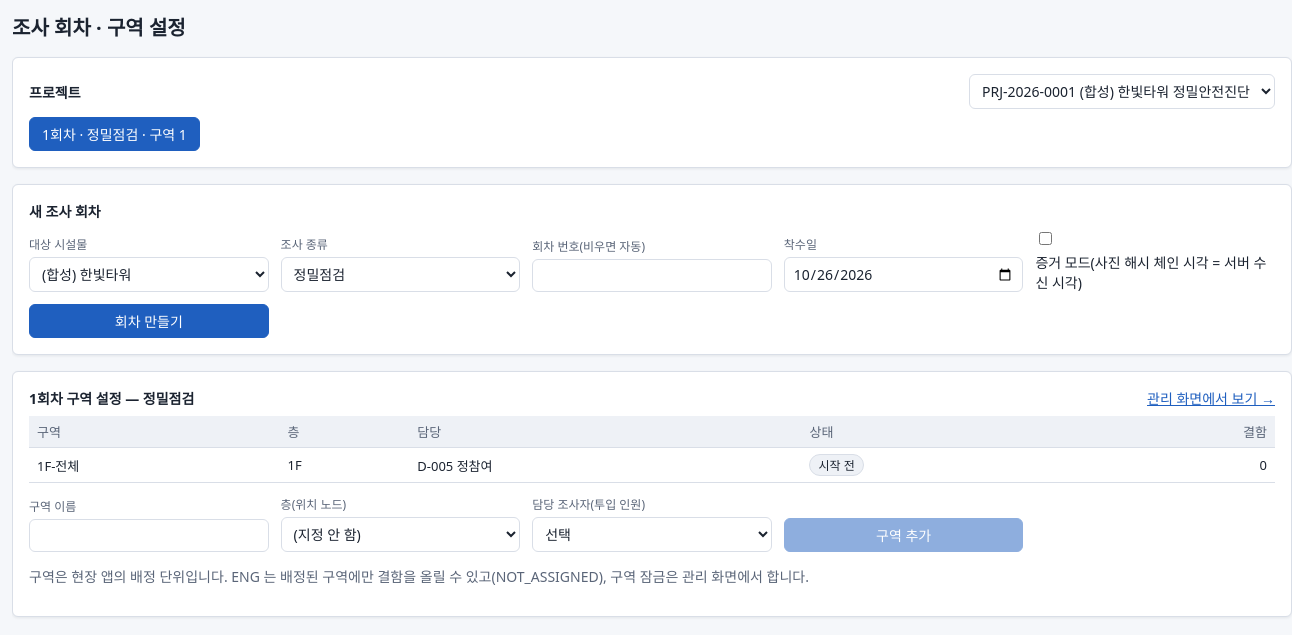
Test: 조사 회차 · 구역 설정 › 회차 만들기: 프로젝트 · 시설물 · 종류 · 증거 모드 → POST /fld/rounds, 재시도는 같은 멱등 키
Select "(합성) 별관" in the dropdown labelled "대상 시설물" at (149,274), box [29, 257, 269, 292]
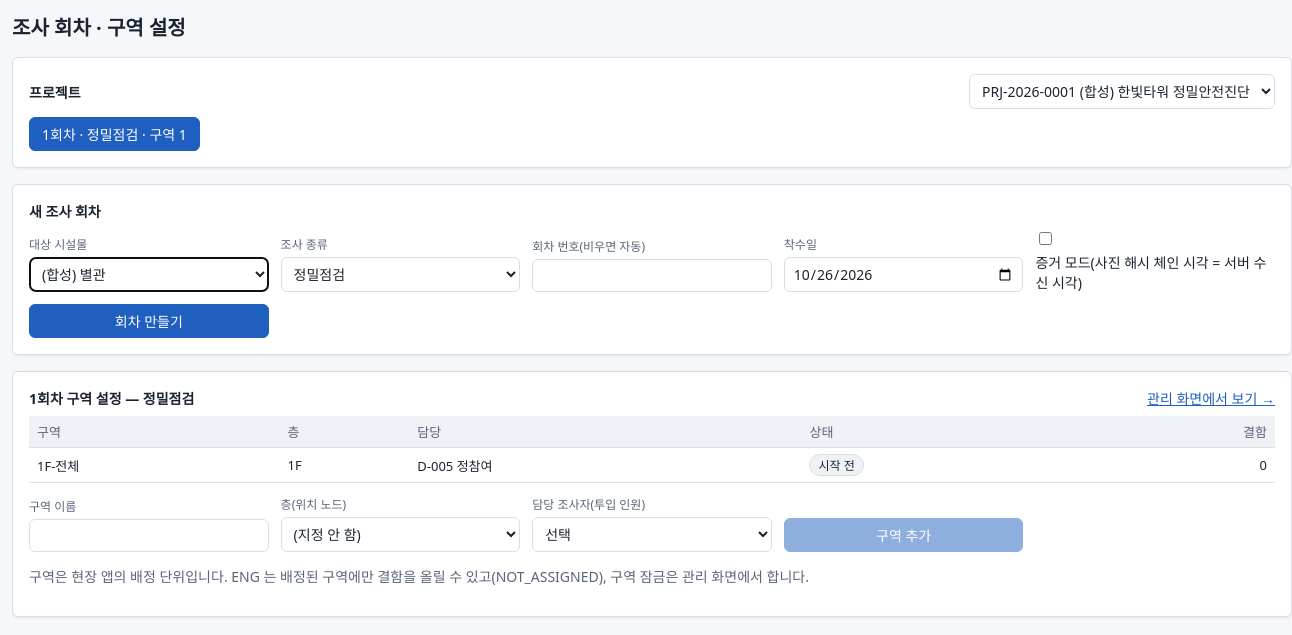
Select "정기점검" in the dropdown labelled "조사 종류" at (400,274), box [281, 257, 520, 292]
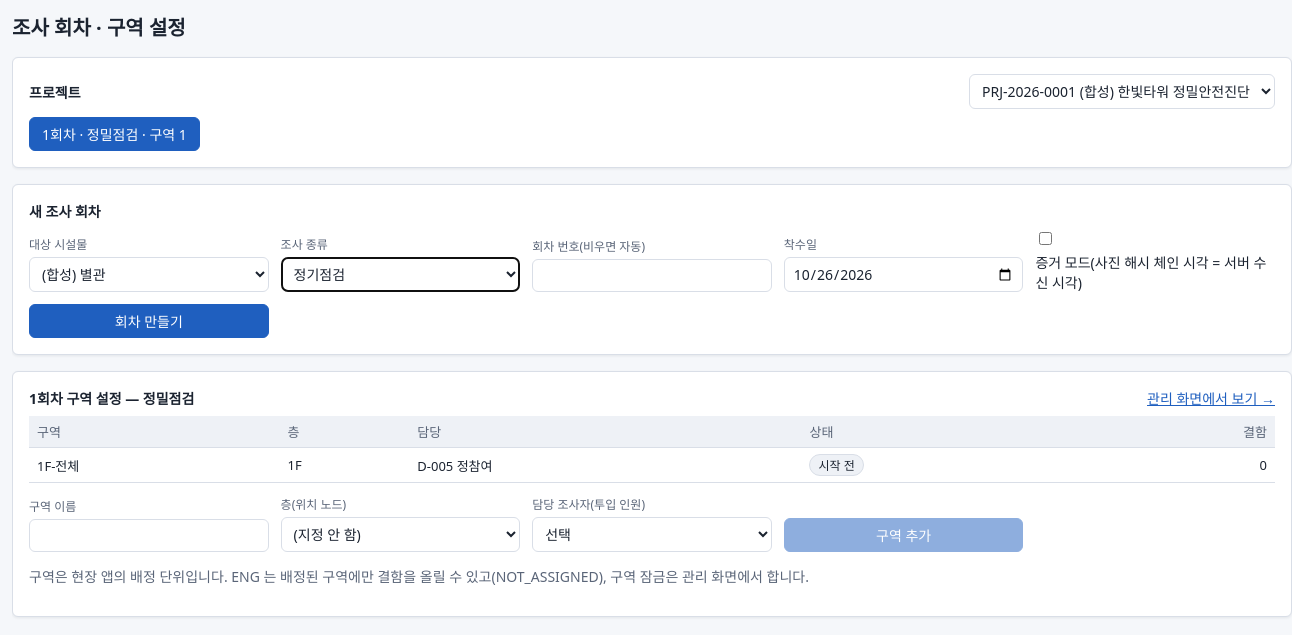
Click the checkbox labelled "증거 모드" at (1046,238), box [1039, 232, 1052, 245]
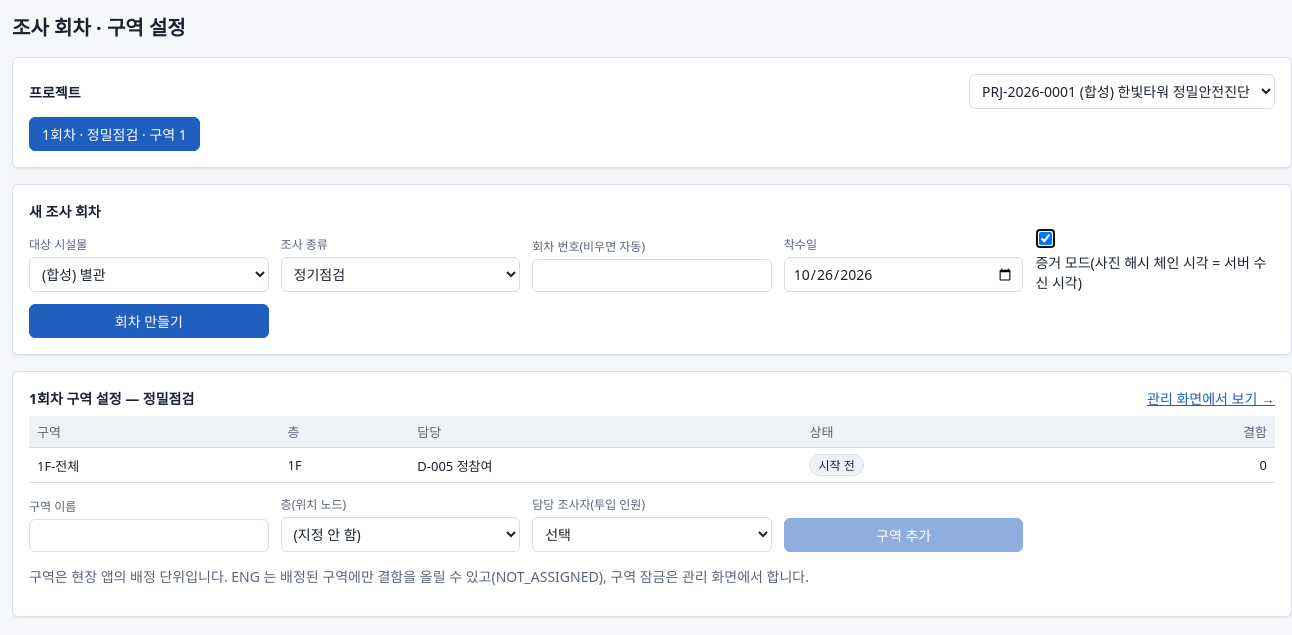
Click the button with test id "round-create" at (149,321), box [29, 304, 269, 338]
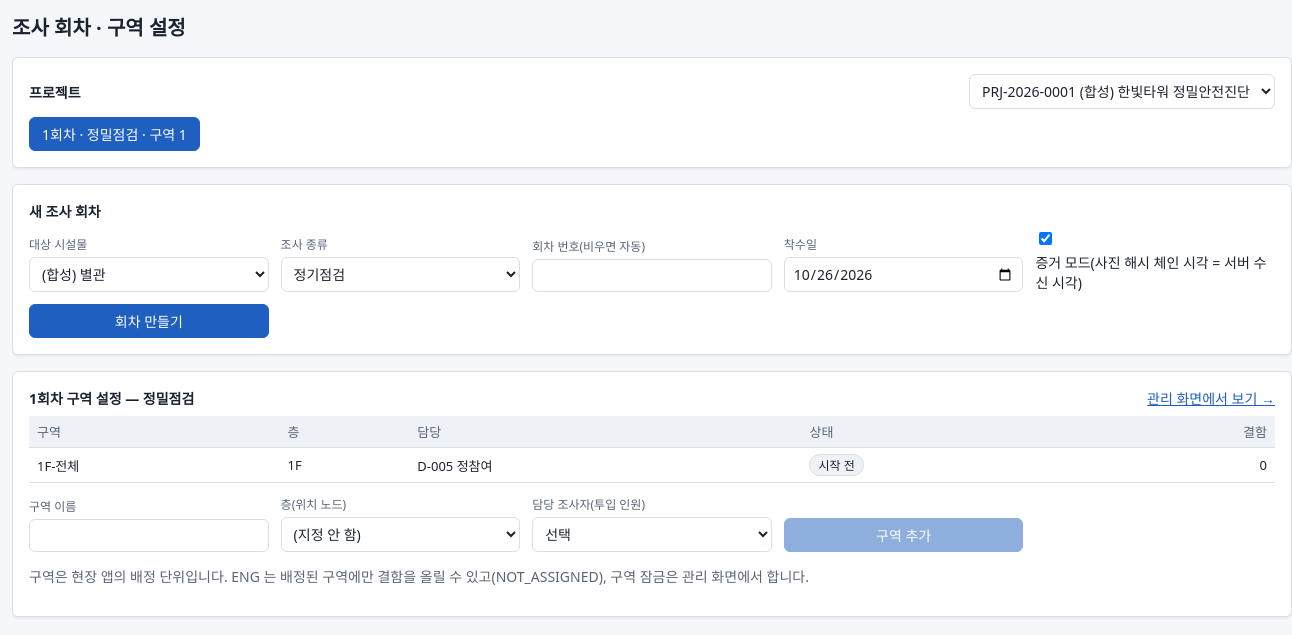
Click the button with test id "round-create" at (149,321), box [29, 304, 269, 338]
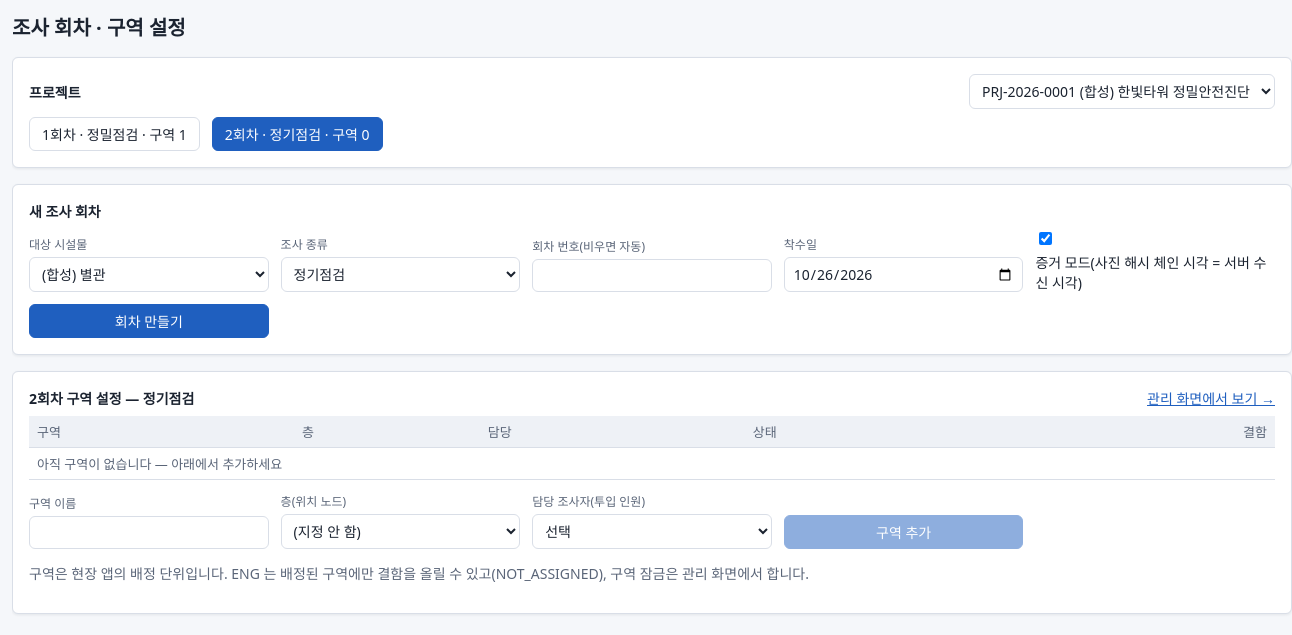
Expected: the text "아직 구역이 없습니다 — 아래에서 추가하세요" is shown, [29, 448, 1275, 480]
